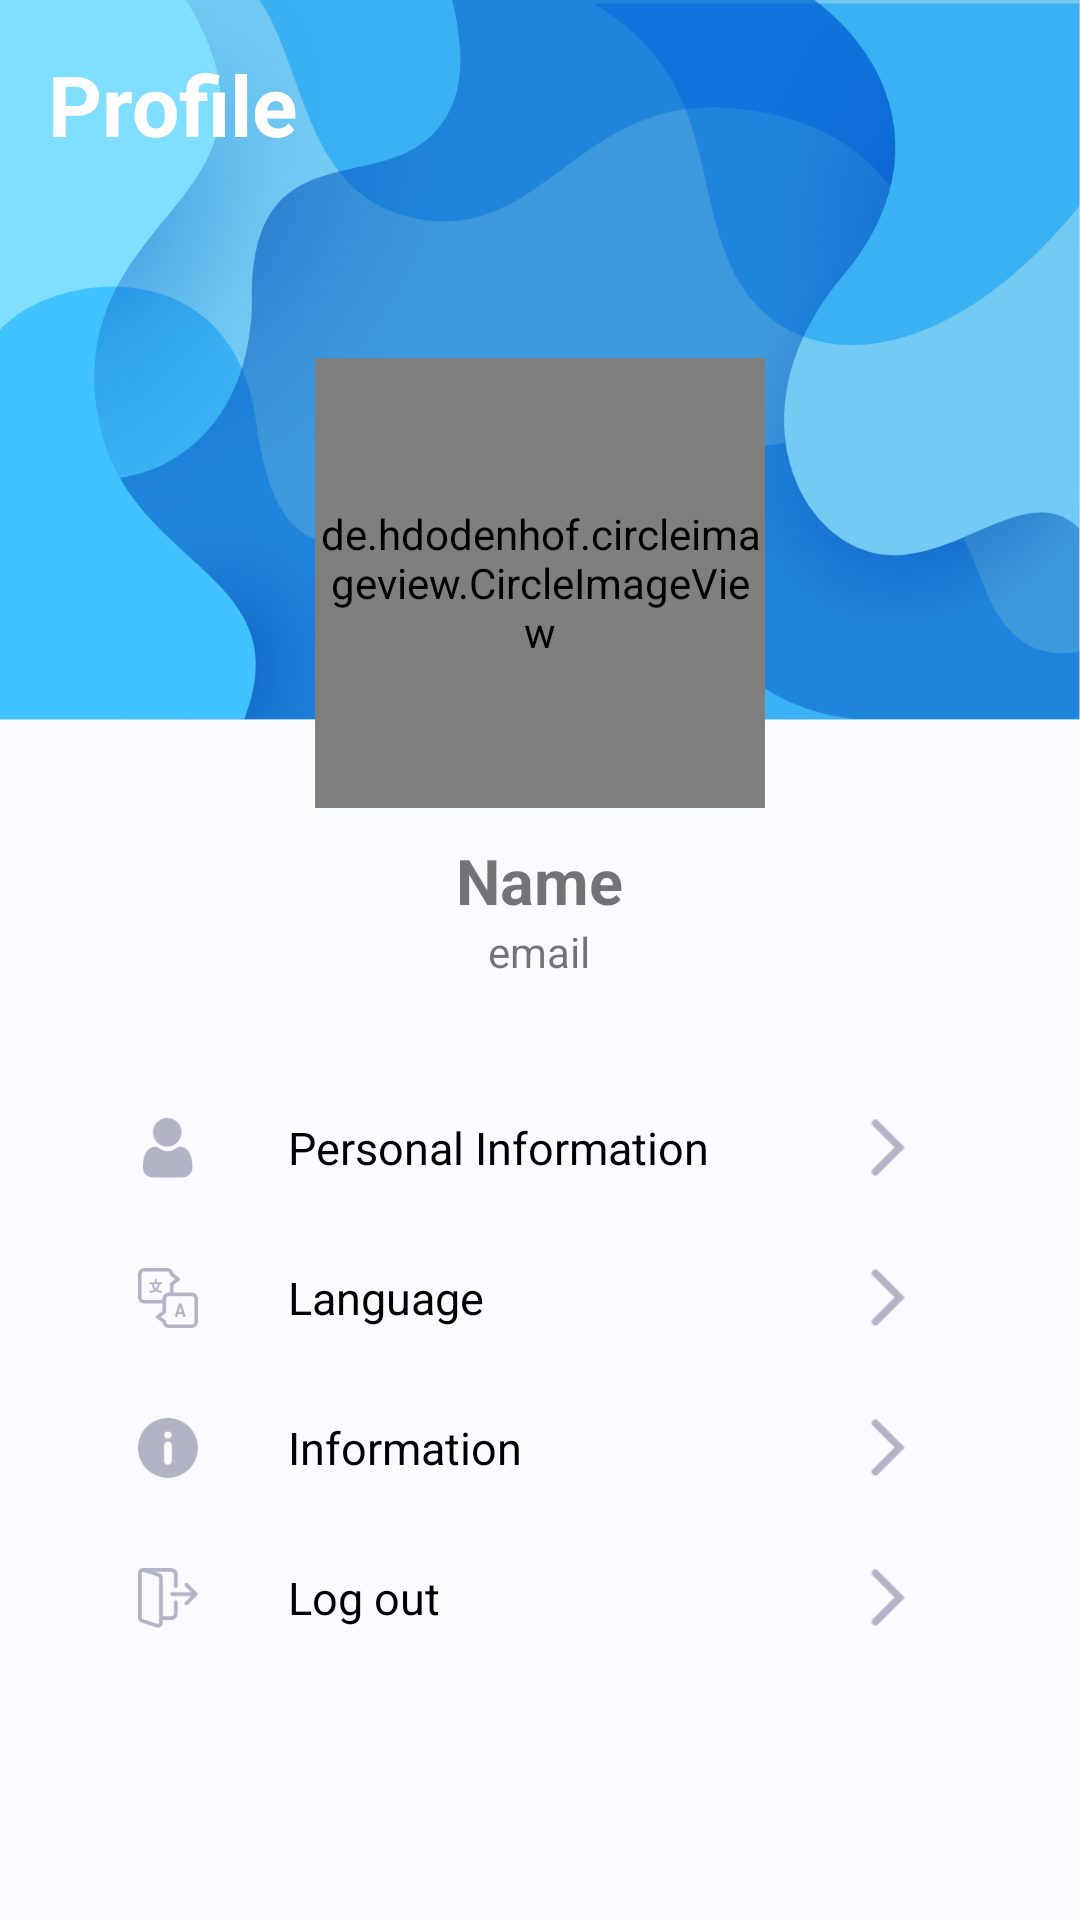

Point at icon controls on the screen. Image size 1080px x 1920px, points as (x,y).
arrow: (888,1147), (888,1297), (888,1447), (888,1597)
translate: (168,1298)
user: (168,1148)
